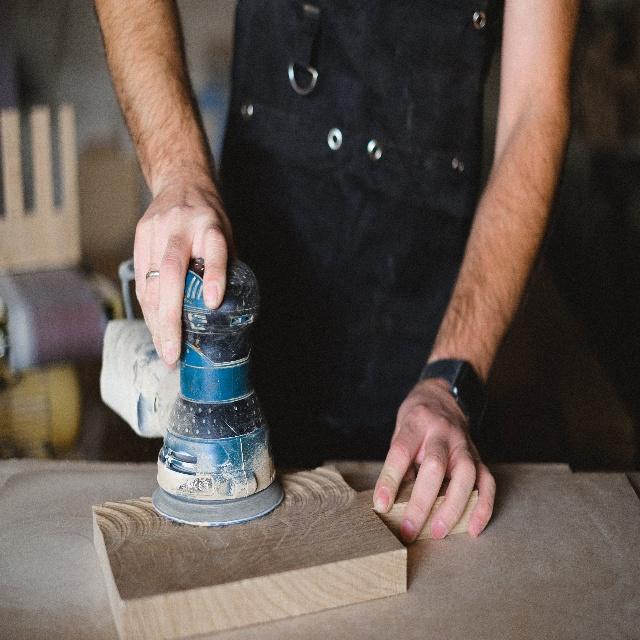Sin_guantes: (373, 381, 497, 548), (132, 180, 238, 370)
